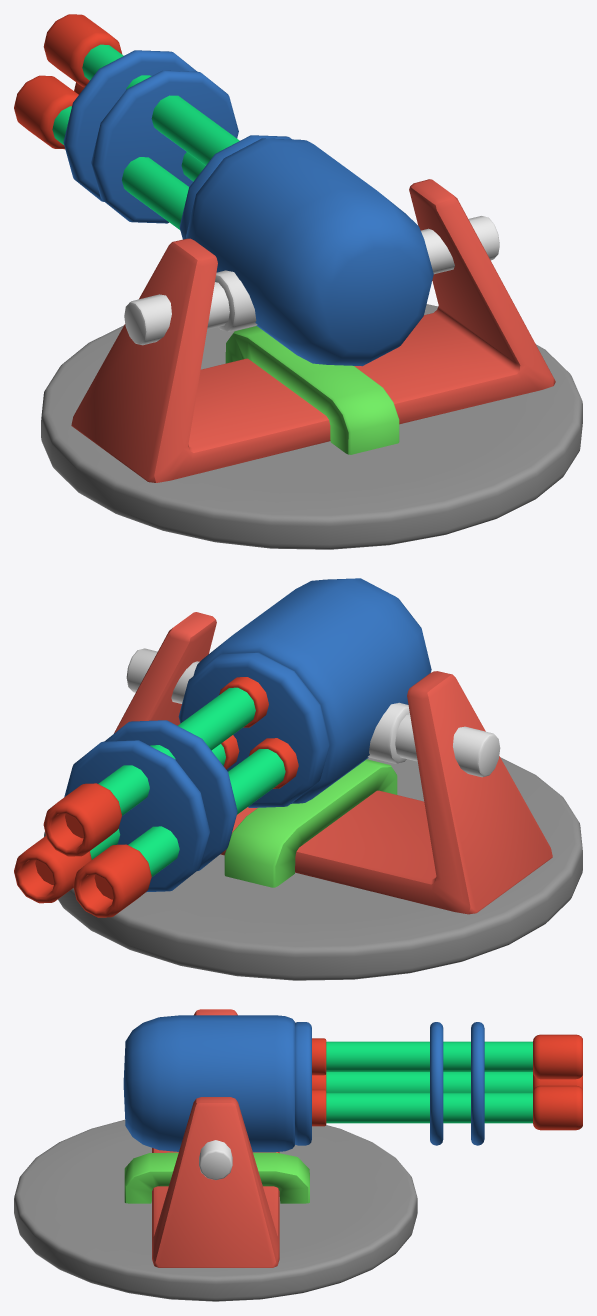
Rendered from mini_1_part.fbx.
3 views of the same model, one above another, from view 1: azimuth 30°, elevation 25°; view 2: azimuth 150°, elevation 25°; view 3: azimuth 270°, elevation 25° (orthographic). The views are drawn at different scales.
Parts seen in each view (by area): view 1: Weapon_01_1.004, platform_1, minigun_back.011, minigun_up.007, minigun_up.009, part, Cylinder.005, minigun_up.001; view 2: Weapon_01_1.004, platform_1, minigun_up.009, minigun_back.011, minigun_up.007, minigun_up.001, part, Cylinder.005; view 3: Weapon_01_1.004, minigun_up.009, minigun_back.011, platform_1, part, minigun_up.007, minigun_up.001, Cylinder.005.
Boxes of the visible parts, x1,y1,x2,y2 form: Weapon_01_1.004: [41, 304, 582, 549]; platform_1: [71, 179, 555, 482]; minigun_back.011: [186, 138, 433, 366]; minigun_up.007: [63, 50, 238, 223]; minigun_up.009: [14, 14, 239, 229]; part: [225, 326, 399, 454]; Cylinder.005: [124, 216, 499, 345]; minigun_up.001: [179, 135, 291, 239]; Weapon_01_1.004: [44, 757, 582, 980]; platform_1: [114, 612, 552, 914]; minigun_up.009: [14, 677, 298, 917]; minigun_back.011: [193, 578, 431, 803]; minigun_up.007: [64, 720, 237, 892]; minigun_up.001: [178, 652, 329, 807]; part: [224, 759, 397, 887]; Cylinder.005: [126, 648, 500, 777]; Weapon_01_1.004: [14, 1119, 417, 1301]; minigun_up.009: [312, 1034, 582, 1130]; minigun_back.011: [123, 1015, 294, 1152]; platform_1: [152, 1009, 279, 1267]; part: [124, 1152, 309, 1203]; minigun_up.007: [430, 1022, 484, 1145]; minigun_up.001: [295, 1022, 311, 1145]; Cylinder.005: [199, 1140, 232, 1180].
Size of the model in its own units: 88.73 by 47.86 by 125.
